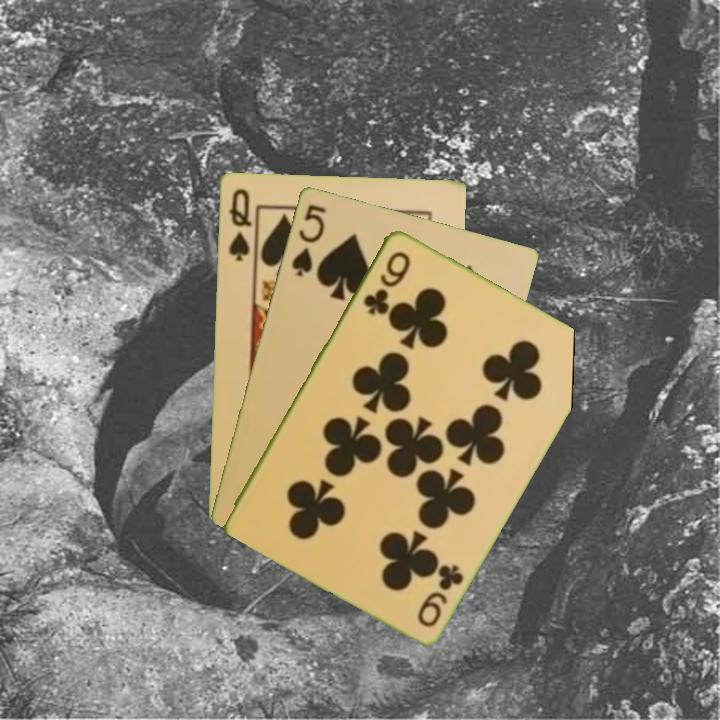5s: (287, 200, 329, 279)
9c: (359, 247, 413, 318), (413, 560, 467, 630)
Qs: (224, 185, 254, 264)
